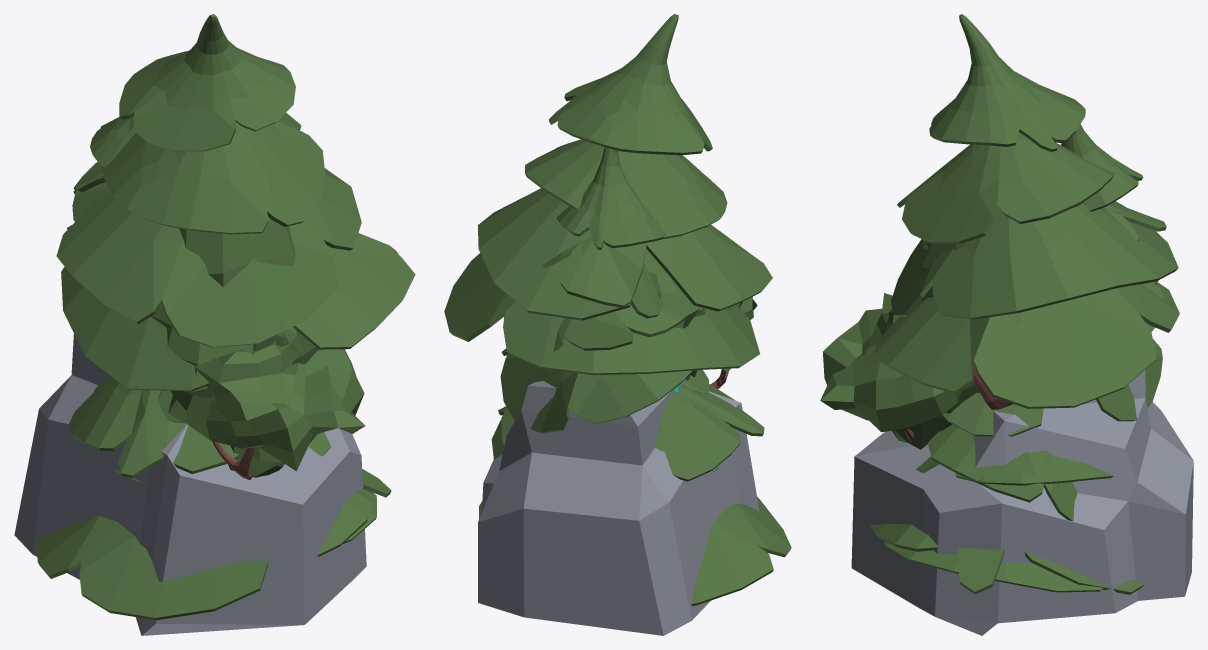
The model's file is hills.glb.
3 renders of one model, left to right at view 1: azimuth 30°, elevation 25°; view 2: azimuth 150°, elevation 25°; view 3: azimuth 270°, elevation 25°, orthographic. The views are drawn at different scales.
Parts seen in each view (by area): view 1: pine_c, rock_c, pine_a, tree_a, birch_a, pine_b; view 2: pine_c, rock_c, pine_a, tree_a, pine_b; view 3: pine_c, rock_c, pine_a, tree_a, pine_b, birch_a.
Part boxes in pixels (x1=…): pine_c: x1=56, y1=14, x2=415, y2=391; rock_c: x1=14, y1=334, x2=366, y2=635; pine_a: x1=36, y1=116, x2=391, y2=620; tree_a: x1=151, y1=302, x2=365, y2=479; birch_a: x1=179, y1=216, x2=318, y2=477; pine_b: x1=114, y1=390, x2=376, y2=543; pine_c: x1=444, y1=14, x2=772, y2=375; rock_c: x1=478, y1=375, x2=759, y2=635; pine_a: x1=491, y1=147, x2=791, y2=606; tree_a: x1=504, y1=248, x2=757, y2=388; pine_b: x1=479, y1=369, x2=723, y2=518; pine_c: x1=873, y1=14, x2=1179, y2=408; rock_c: x1=851, y1=370, x2=1193, y2=635; pine_a: x1=870, y1=124, x2=1166, y2=594; tree_a: x1=820, y1=293, x2=1012, y2=441; pine_b: x1=884, y1=393, x2=1113, y2=592; birch_a: x1=889, y1=240, x2=979, y2=449.
Size of the model in its own units: 8.34 by 14 by 8.47.
